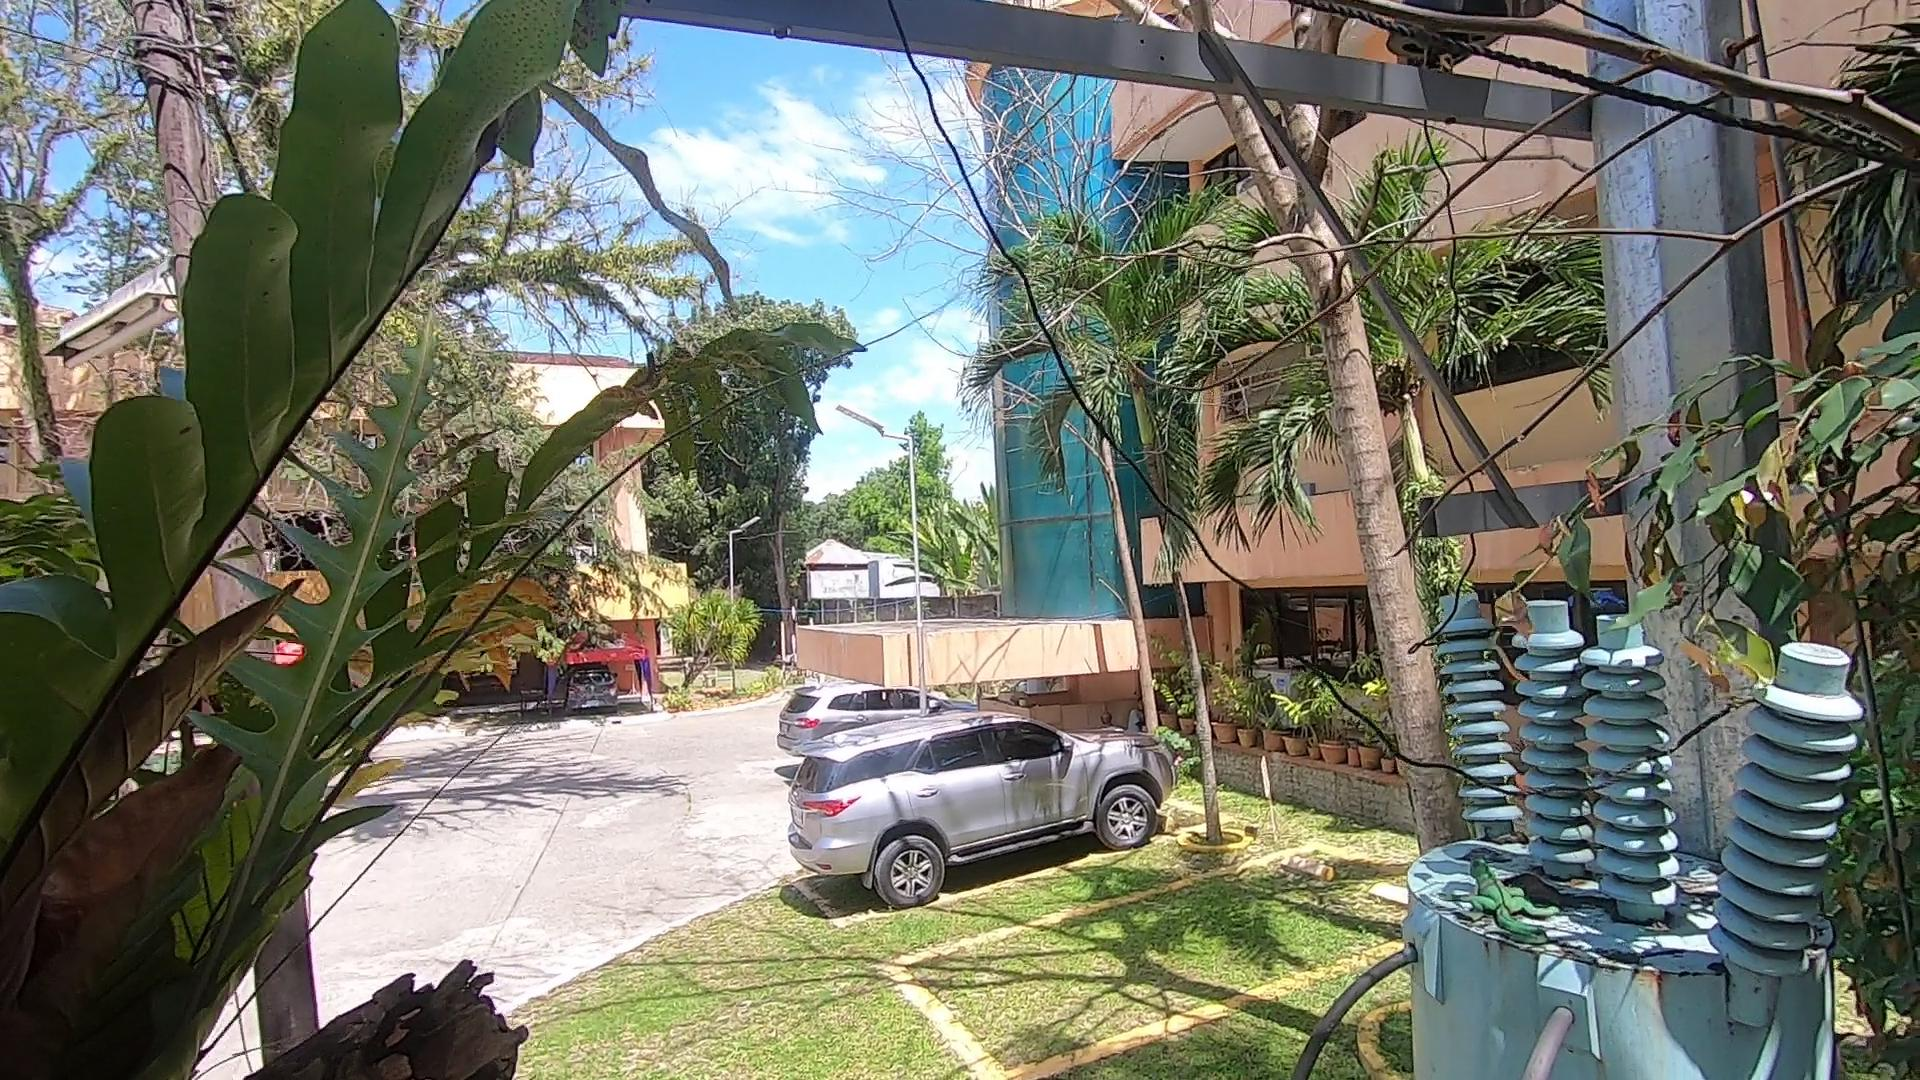leaf: (1497, 865, 1577, 916)
tree branch: (1113, 1, 1920, 574)
